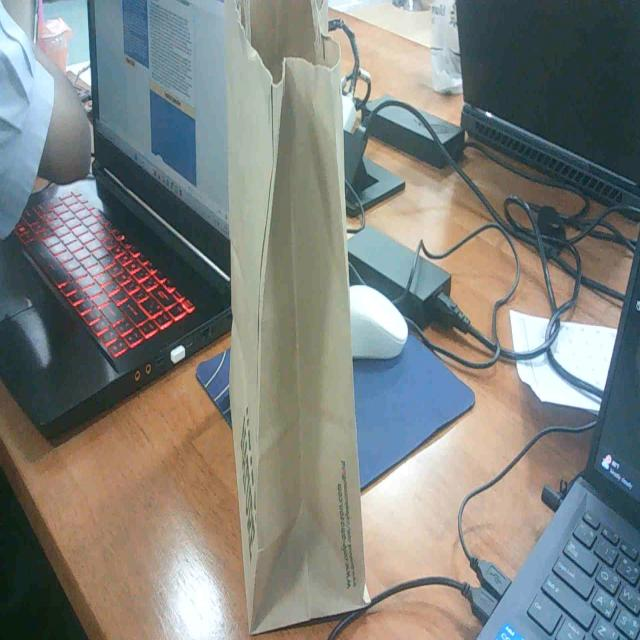bag: (215, 34, 379, 607)
